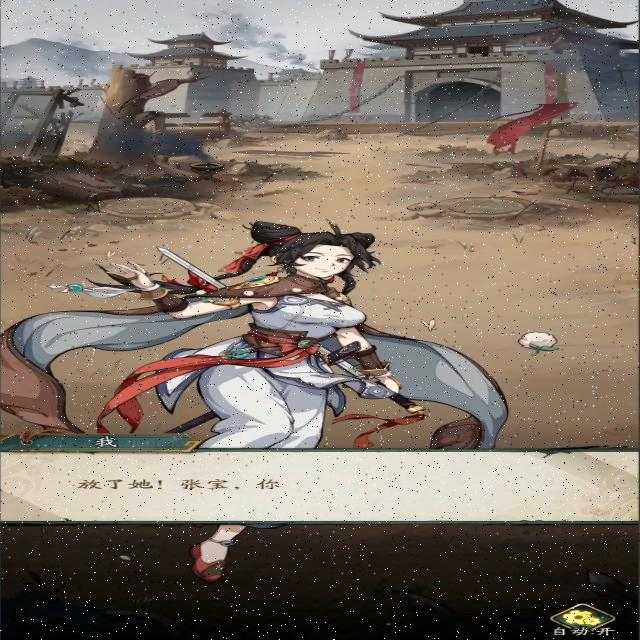system-auto: (552, 605, 614, 634)
